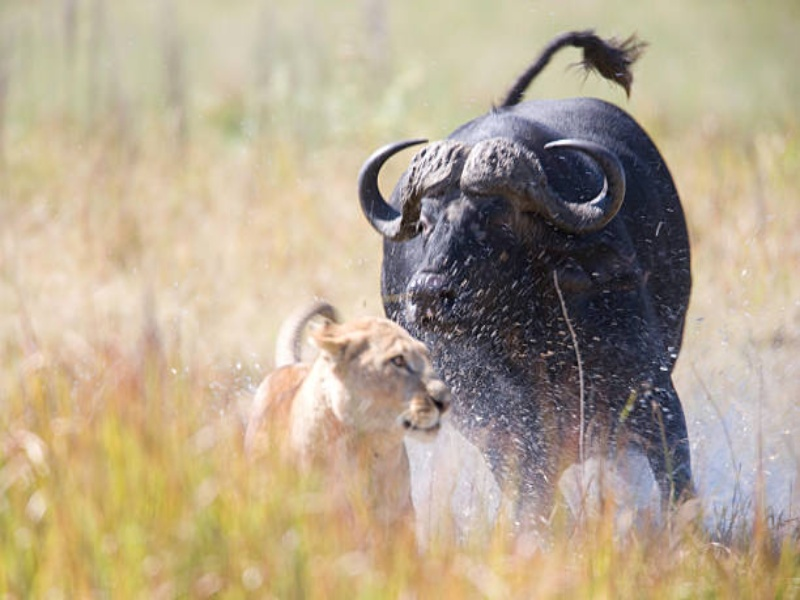buffalo: (363, 77, 700, 331)
